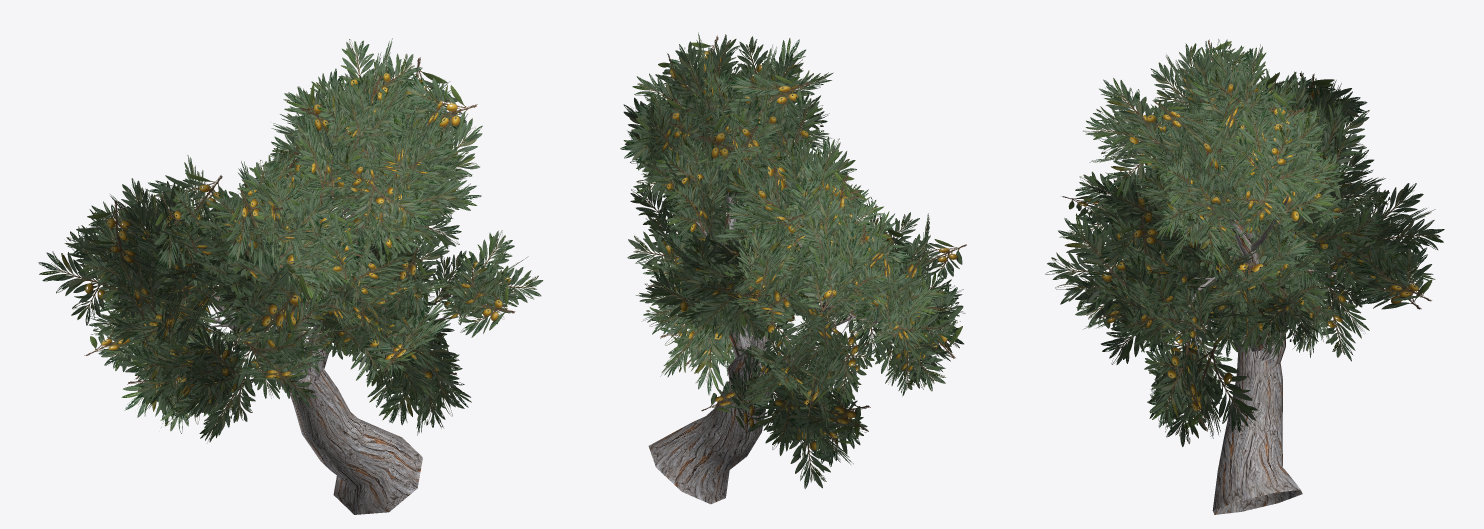
Rendered from nature-white-olive-sunleaf.glb.
3 views of the same model, side by side, from view 1: azimuth 30°, elevation 25°; view 2: azimuth 150°, elevation 25°; view 3: azimuth 270°, elevation 25° (orthographic). The views are drawn at different scales.
Parts seen in each view (by area): view 1: nature-white-olive-sunleaf; view 2: nature-white-olive-sunleaf; view 3: nature-white-olive-sunleaf.
Boxes of the visible parts, left/top/right/bottom form: nature-white-olive-sunleaf: left=38, top=38, right=543, bottom=514; nature-white-olive-sunleaf: left=620, top=32, right=966, bottom=504; nature-white-olive-sunleaf: left=1045, top=39, right=1444, bottom=514.
Bounding box in the file's own units: 5.64 × 6.01 × 5.02.
Materials: 2 (2 with a texture image).
